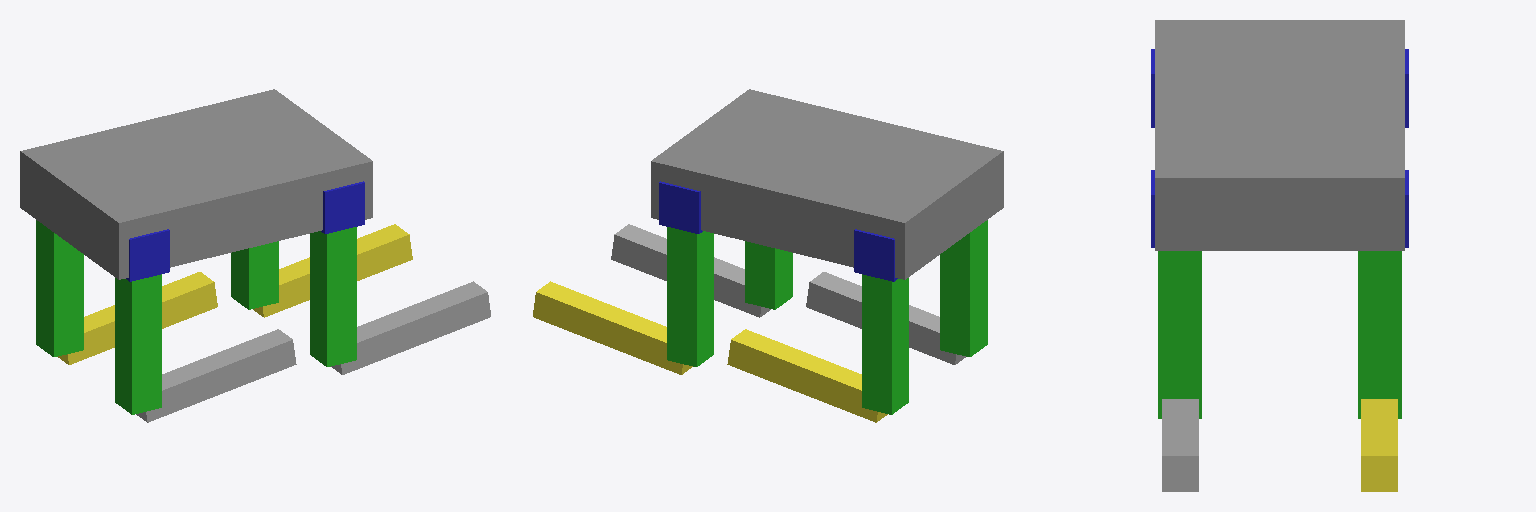
The robot description file, URDF, robot "hyperdog":
<?xml version="1.0"?>
<robot name="hyperdog">

  <!-- ================= BASE ================= -->
  <link name="base_link">
    <inertial>
      <origin xyz="0 0 -0.075" rpy="0 0 0"/>
      <mass value="0.5"/>
      <inertia
        ixx="0.001" ixy="0.0" ixz="0.0"
        iyy="0.001" iyz="0.0"
        izz="0.001"/>
    </inertial>

    <visual>
      <geometry>
        <box size="0.2536 0.17 0.05425 "/>
      </geometry>
      <origin xyz="0 0 0.027125" rpy="0 0 0"/>
      <material name="gray">
        <color rgba="0.6 0.6 0.6 1"/>
      </material>
    </visual>

    <collision>
      <geometry>
        <box size="0.2536 0.17 0.05425"/>
      </geometry>
      <origin xyz="0 0 0.06" rpy="0 0 0"/>
    </collision>

  </link>


  <!-- ============ FRONT LEFT HIP ============ -->
  <link name="front_left_hip">
    <inertial>
      <origin xyz="0 0 -0.075" rpy="0 0 0"/>
      <mass value="0.5"/>
      <inertia
       ixx="0.001" ixy="0.0" ixz="0.0"
       iyy="0.001" iyz="0.0"
       izz="0.001"/>
    </inertial>
    <visual>
      <geometry>
        <box size="0.04 0.04 0.04"/>
      </geometry>
      <origin xyz="0 0 0"/>
      <material name="blue">
        <color rgba="0.2 0.2 0.8 1"/>
      </material>
    </visual>
  </link>

  <joint name="front_left_hip_joint" type="revolute">
    <parent link="base_link"/>
    <child link="front_left_hip"/>
    <origin xyz="0.0972 0.0678 0.0171" rpy="0 0 0"/>
    <axis xyz="1 0 0"/>
    <limit lower="-1.5708" upper="1.5708" effort="10" velocity="2"/>
  </joint>

  <!-- ============ THIGH ============ -->
  <link name="front_left_thigh">
    <inertial>
      <origin xyz="0 0 -0.075" rpy="0 0 0"/>
      <mass value="0.5"/>
      <inertia
       ixx="0.001" ixy="0.0" ixz="0.0"
       iyy="0.001" iyz="0.0"
       izz="0.001"/>
    </inertial>  
  
  
    <visual>
      <geometry>
        <box size="0.03 0.03 0.15"/>
      </geometry>
      <origin xyz="0 0 -0.075"/>
      <material name="green">
        <color rgba="0.2 0.8 0.2 1"/>
      </material>
    </visual>
  </link>

  <joint name="front_left_thigh_joint" type="revolute">
    <parent link="front_left_hip"/>
    <child link="front_left_thigh"/>
    <origin xyz="0 0 0" rpy="0 0 0"/>
    <axis xyz="0 1 0"/>
    <limit lower="-1.9199" upper="1.0472" effort="10" velocity="2"/>
  </joint>


  <!-- ============ SHANK ============ -->
  <link name="front_left_shank">
    <inertial>
      <origin xyz="0 0 -0.075" rpy="0 0 0"/>
      <mass value="0.5"/>
      <inertia
       ixx="0.001" ixy="0.0" ixz="0.0"
       iyy="0.001" iyz="0.0"
       izz="0.001"/>
    </inertial>

    <visual>
      <geometry>
        <box size="0.025 0.025 0.15"/>
      </geometry>
      <!-- centro del shank hacia abajo -->
      <origin xyz="0 0 -0.075"/>
      <material name="red"/>
    </visual>

    <collision>
      <geometry>
        <box size="0.025 0.025 0.15"/>
      </geometry>
      <origin xyz="0 0 -0.075"/>
    </collision>

    <surface>
      <friction>
        <ode>
          <mu>1.2</mu>
          <mu2>0.5</mu2>
        </ode>
      </friction>
    </surface>
  </link>

  <joint name="front_left_knee_joint" type="revolute">
    <parent link="front_left_thigh"/>
    <child link="front_left_shank"/>
    <!-- nace al final del thigh -->
    <origin xyz="0 0 -0.15"/>
    <axis xyz="0 1 0"/>  <!-- pitch -->
    <limit lower="-3.0019" upper="-0.4189" effort="10" velocity="2"/>
  </joint>

  <link name="front_left_foot">
    <inertial>
      <mass value="0.05"/>
      <inertia
        ixx="1e-5" ixy="0" ixz="0"
        iyy="1e-5" iyz="0"
        izz="1e-5"/>
    </inertial>

    <collision>
      <geometry>
        <sphere radius="0.015"/>
      </geometry>
    </collision>
  </link>

  <joint name="front_left_foot_joint" type="fixed">
    <parent link="front_left_shank"/>
    <child link="front_left_foot"/>
    <origin xyz="0 0 -0.15"/>
  </joint>

  <!-- ============ FRONT RIGHT HIP ============ -->
  <link name="front_right_hip">
    <inertial>
      <origin xyz="0 0 -0.075" rpy="0 0 0"/>
      <mass value="0.5"/>
      <inertia
       ixx="0.001" ixy="0.0" ixz="0.0"
       iyy="0.001" iyz="0.0"
       izz="0.001"/>
    </inertial>

    <visual>
      <geometry>
        <box size="0.04 0.04 0.04"/>
      </geometry>
      <origin xyz="0 0 0"/>
      <material name="blue">
        <color rgba="0.2 0.2 0.8 1"/>
      </material>
    </visual>
  </link>

  <joint name="front_right_hip_joint" type="revolute">
    <parent link="base_link"/>
    <child link="front_right_hip"/>
    <origin xyz="0.0972 -0.0678 0.0171" rpy="0 0 0"/>
    <axis xyz="-1 0 0"/>
    <limit lower="-1.5708" upper="1.5708" effort="10" velocity="2"/>
  </joint>

  <!-- ============ THIGH ============ -->
  <link name="front_right_thigh">

    <inertial>
      <origin xyz="0 0 -0.075" rpy="0 0 0"/>
      <mass value="0.5"/>
      <inertia
       ixx="0.001" ixy="0.0" ixz="0.0"
       iyy="0.001" iyz="0.0"
       izz="0.001"/>
    </inertial>
    
    <visual>
      <geometry>
        <box size="0.03 0.03 0.15"/>
      </geometry>
      <origin xyz="0 0 -0.075"/>
      <material name="green">
        <color rgba="0.2 0.8 0.2 1"/>
      </material>
    </visual>
  </link>

  <joint name="front_right_thigh_joint" type="revolute">
    <parent link="front_right_hip"/>
    <child link="front_right_thigh"/>
    <origin xyz="0 0 0" rpy="0 0 0"/>
    <axis xyz="0 1 0"/>
    <limit lower="-1.9199" upper="1.0472" effort="10" velocity="2"/>
  </joint>


  <!-- ============ SHANK ============ -->
  <link name="front_right_shank">
    <inertial>
      <origin xyz="0 0 -0.075" rpy="0 0 0"/>
      <mass value="0.5"/>
      <inertia
       ixx="0.001" ixy="0.0" ixz="0.0"
       iyy="0.001" iyz="0.0"
       izz="0.001"/>
    </inertial>
  
    <visual>
      <geometry>
        <box size="0.025 0.025 0.15"/>
      </geometry>
      <!-- centro del shank hacia abajo -->
      <origin xyz="0 0 -0.075"/>
      <material name="red"/>
    </visual>

    <collision>
      <geometry>
        <box size="0.025 0.025 0.15"/>
      </geometry>
      <origin xyz="0 0 -0.075"/>
    </collision>

    <surface>
      <friction>
        <ode>
          <mu>1.2</mu>
          <mu2>0.5</mu2>
        </ode>
      </friction>
    </surface>
  </link>

  <joint name="front_right_knee_joint" type="revolute">
    <parent link="front_right_thigh"/>
    <child link="front_right_shank"/>
    <!-- nace al final del thigh -->
    <origin xyz="0 0 -0.15"/>
    <axis xyz="0 1 0"/>  <!-- pitch -->
    <limit lower="-3.0019" upper="-0.4189" effort="10" velocity="2"/>
  </joint>


  <link name="front_right_foot">
    <inertial>
      <mass value="0.05"/>
      <inertia
        ixx="1e-5" ixy="0" ixz="0"
        iyy="1e-5" iyz="0"
        izz="1e-5"/>
    </inertial>

    <collision>
      <geometry>
        <sphere radius="0.015"/>
      </geometry>
    </collision>
  </link>

  <joint name="front_right_foot_joint" type="fixed">
    <parent link="front_right_shank"/>
    <child link="front_right_foot"/>
    <origin xyz="0 0 -0.15"/>
  </joint>

  <!-- ============ REAR LEFT HIP ============ -->
  <link name="rear_left_hip">
    <inertial>
      <origin xyz="0 0 -0.075" rpy="0 0 0"/>
      <mass value="0.5"/>
      <inertia
       ixx="0.001" ixy="0.0" ixz="0.0"
       iyy="0.001" iyz="0.0"
       izz="0.001"/>
    </inertial>

    <visual>
      <geometry>
        <box size="0.04 0.04 0.04"/>
      </geometry>
      <origin xyz="0 0 0"/>
      <material name="blue">
        <color rgba="0.2 0.2 0.8 1"/>
      </material>
    </visual>
  </link>

  <joint name="rear_left_hip_joint" type="revolute">
    <parent link="base_link"/>
    <child link="rear_left_hip"/>
    <origin xyz="-0.0972 0.0678 0.0171" rpy="0 0 0"/>
    <axis xyz="1 0 0"/>
    <limit lower="-1.5708" upper="1.5708" effort="10" velocity="2"/>
  </joint>

  <!-- ============ THIGH ============ -->
  <link name="rear_left_thigh">
    <inertial>
      <origin xyz="0 0 -0.075" rpy="0 0 0"/>
      <mass value="0.5"/>
      <inertia
       ixx="0.001" ixy="0.0" ixz="0.0"
       iyy="0.001" iyz="0.0"
       izz="0.001"/>
    </inertial>

    <visual>
      <geometry>
        <box size="0.03 0.03 0.15"/>
      </geometry>
      <origin xyz="0 0 -0.075"/>
      <material name="green">
        <color rgba="0.2 0.8 0.2 1"/>
      </material>
    </visual>
  </link>

  <joint name="rear_left_thigh_joint" type="revolute">
    <parent link="rear_left_hip"/>
    <child link="rear_left_thigh"/>
    <origin xyz="0 0 0" rpy="0 0 0"/>
    <axis xyz="0 1 0"/>
    <limit lower="-1.9199" upper="1.0472" effort="10" velocity="2"/>
  </joint>


  <!-- ============ SHANK ============ -->
  <link name="rear_left_shank">
    <inertial>
      <origin xyz="0 0 -0.075" rpy="0 0 0"/>
      <mass value="0.5"/>
      <inertia
       ixx="0.001" ixy="0.0" ixz="0.0"
       iyy="0.001" iyz="0.0"
       izz="0.001"/>
    </inertial>


    <visual>
      <geometry>
        <box size="0.025 0.025 0.15"/>
      </geometry>
      <!-- centro del shank hacia abajo -->
      <origin xyz="0 0 -0.075"/>
      <material name="red"/>
    </visual>


    <collision>
      <geometry>
        <box size="0.025 0.025 0.15"/>
      </geometry>
      <origin xyz="0 0 -0.075"/>
    </collision> 

    <surface>
      <friction>
        <ode>
          <mu>1.2</mu>
          <mu2>0.5</mu2>
        </ode>
      </friction>
    </surface>   
  </link>

  <joint name="rear_left_knee_joint" type="revolute">
    <parent link="rear_left_thigh"/>
    <child link="rear_left_shank"/>
    <!-- nace al final del thigh -->
    <origin xyz="0 0 -0.15"/>
    <axis xyz="0 1 0"/>  <!-- pitch -->
    <limit lower="-3.0019" upper="-0.4189" effort="10" velocity="2"/>
  </joint>

  <link name="rear_left_foot">
    <inertial>
      <mass value="0.05"/>
      <inertia
        ixx="1e-5" ixy="0" ixz="0"
        iyy="1e-5" iyz="0"
        izz="1e-5"/>
    </inertial>
    <collision>
      <geometry>
        <sphere radius="0.015"/>
      </geometry>
    </collision>
  </link>

  <joint name="rear_left_foot_joint" type="fixed">
    <parent link="rear_left_shank"/>
    <child link="rear_left_foot"/>
    <origin xyz="0 0 -0.15"/>
  </joint>
  <!-- ============ REAR RIGHT HIP ============ -->
  <link name="rear_right_hip">
    <inertial>
      <origin xyz="0 0 -0.075" rpy="0 0 0"/>
      <mass value="0.5"/>
      <inertia
       ixx="0.001" ixy="0.0" ixz="0.0"
       iyy="0.001" iyz="0.0"
       izz="0.001"/>
    </inertial>

    <visual>
      <geometry>
        <box size="0.04 0.04 0.04"/>
      </geometry>
      <origin xyz="0 0 0"/>
      <material name="blue">
        <color rgba="0.2 0.2 0.8 1"/>
      </material>
    </visual>
  </link>

  <joint name="rear_right_hip_joint" type="revolute">
    <parent link="base_link"/>
    <child link="rear_right_hip"/>
    <origin xyz="-0.0972 -0.0678 0.0171" rpy="0 0 0"/>
    <axis xyz="-1 0 0"/>
    <limit lower="-1.5708" upper="1.5708" effort="10" velocity="2"/>
  </joint>

  <!-- ============ THIGH ============ -->
  <link name="rear_right_thigh">
    <inertial>
      <origin xyz="0 0 -0.075" rpy="0 0 0"/>
      <mass value="0.5"/>
      <inertia
       ixx="0.001" ixy="0.0" ixz="0.0"
       iyy="0.001" iyz="0.0"
       izz="0.001"/>
    </inertial>

    <visual>
      <geometry>
        <box size="0.03 0.03 0.15"/>
      </geometry>
      <origin xyz="0 0 -0.075"/>
      <material name="green">
        <color rgba="0.2 0.8 0.2 1"/>
      </material>
    </visual>
  </link>

  <joint name="rear_right_thigh_joint" type="revolute">
    <parent link="rear_right_hip"/>
    <child link="rear_right_thigh"/>
    <origin xyz="0 0 0" rpy="0 0 0"/>
    <axis xyz="0 1 0"/>
    <limit lower="-1.9199" upper="1.0472" effort="10" velocity="2"/>
  </joint>


  <!-- ============ SHANK ============ -->
  <link name="rear_right_shank">
    <inertial>
      <origin xyz="0 0 -0.075" rpy="0 0 0"/>
      <mass value="0.5"/>
      <inertia
       ixx="0.001" ixy="0.0" ixz="0.0"
       iyy="0.001" iyz="0.0"
       izz="0.001"/>
    </inertial>
  
    <visual>
      <geometry>
        <box size="0.025 0.025 0.15"/>
      </geometry>
      <!-- centro del shank hacia abajo -->
      <origin xyz="0 0 -0.075"/>
      <material name="red"/>
    </visual>


    <collision>
      <geometry>
        <box size="0.025 0.025 0.15"/>
      </geometry>
      <origin xyz="0 0 -0.075"/>
    </collision>

    <surface>
      <friction>
        <ode>
          <mu>1.2</mu>
          <mu2>0.5</mu2>
        </ode>
      </friction>
    </surface>

  </link>
  
  <joint name="rear_right_knee_joint" type="revolute">
    <parent link="rear_right_thigh"/>
    <child link="rear_right_shank"/>
    <!-- nace al final del thigh -->
    <origin xyz="0 0 -0.15"/>
    <axis xyz="0 1 0"/>  <!-- pitch -->
    <limit lower="-3.0019" upper="-0.4189" effort="10" velocity="2"/>
  </joint>

  <link name="rear_right_foot">
    <inertial>
      <mass value="0.05"/>
      <inertia
        ixx="1e-5" ixy="0" ixz="0"
        iyy="1e-5" iyz="0"
        izz="1e-5"/>
    </inertial>
    <collision>
      <geometry>
        <sphere radius="0.015"/>
      </geometry>
    </collision>
  </link>

  <joint name="rear_right_foot_joint" type="fixed">
    <parent link="rear_right_shank"/>
    <child link="rear_right_foot"/>
    <origin xyz="0 0 -0.15"/>
  </joint>
</robot>

--- What the picture shows (computed from the rendered views, not written in the file) ---
The picture shows the robot from 3 angles, left to right: view 1: azimuth 30°, elevation 25°; view 2: azimuth 150°, elevation 25°; view 3: azimuth 270°, elevation 25°; orthographic projection.
Robot: hyperdog — 17 links, 16 joints (12 revolute, 4 fixed); root link base_link; default pose: joints at zero except 4 at the middle of their limits (front_left_knee_joint = -1.71, front_right_knee_joint = -1.71, rear_left_knee_joint = -1.71, rear_right_knee_joint = -1.71).
Links seen in each view (by area): view 1: base_link, rear_right_thigh, front_right_thigh, rear_right_shank, front_right_shank, rear_left_thigh, rear_left_shank, front_left_shank, front_left_thigh, front_right_hip, rear_right_hip; view 2: base_link, rear_left_thigh, front_left_thigh, rear_left_shank, front_left_shank, rear_right_thigh, rear_right_shank, front_right_shank, front_right_thigh, front_left_hip, rear_left_hip; view 3: base_link, front_left_thigh, front_right_thigh, front_left_shank, front_right_shank.
Boxes of the visible links, x1,y1,x2,y2 form: base_link: [20, 89, 372, 279]; rear_right_thigh: [115, 274, 161, 414]; front_right_thigh: [310, 227, 356, 366]; rear_right_shank: [136, 329, 296, 422]; front_right_shank: [331, 281, 490, 374]; rear_left_thigh: [36, 220, 83, 356]; rear_left_shank: [58, 272, 217, 364]; front_left_shank: [253, 224, 412, 317]; front_left_thigh: [231, 241, 278, 309]; front_right_hip: [321, 181, 364, 233]; rear_right_hip: [126, 229, 169, 281]; base_link: [651, 89, 1003, 279]; rear_left_thigh: [862, 274, 908, 414]; front_left_thigh: [667, 227, 713, 366]; rear_left_shank: [727, 329, 887, 422]; front_left_shank: [533, 281, 692, 374]; rear_right_thigh: [940, 220, 987, 356]; rear_right_shank: [806, 272, 965, 364]; front_right_shank: [611, 224, 770, 317]; front_right_thigh: [745, 241, 792, 309]; front_left_hip: [659, 181, 702, 233]; rear_left_hip: [854, 229, 897, 281]; base_link: [1155, 20, 1404, 250]; front_left_thigh: [1358, 251, 1401, 418]; front_right_thigh: [1158, 251, 1201, 418]; front_left_shank: [1361, 399, 1397, 491]; front_right_shank: [1162, 399, 1198, 491].
Bounding box of the posed robot: 0.3743 × 0.1756 × 0.1995 m (x, y, z).
Geometry: primitives only (box / cylinder / sphere), no mesh files.